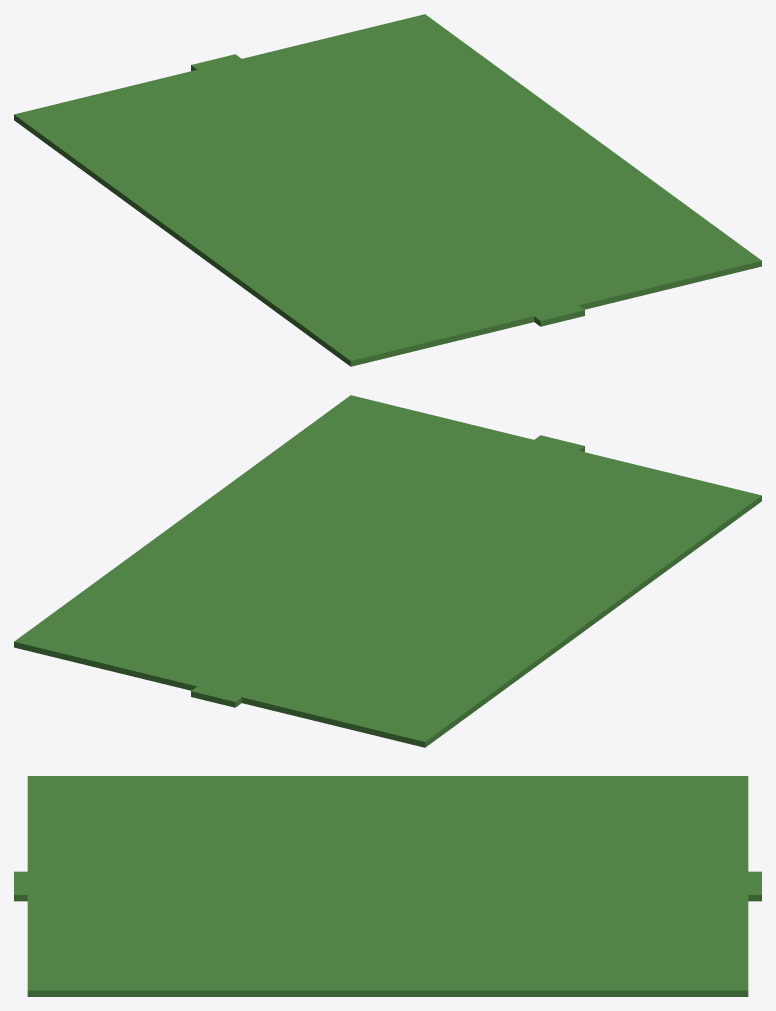
The model's file is Pitch.fbx.
3 renders of one model, top to bottom at view 1: azimuth 30°, elevation 25°; view 2: azimuth 150°, elevation 25°; view 3: azimuth 270°, elevation 25°, orthographic. The views are drawn at different scales.
Parts seen in each view (by area): view 1: Pitch; view 2: Pitch; view 3: Pitch.
Part boxes in pixels (x1,y1,x2,y2): Pitch: [14, 14, 761, 366]; Pitch: [14, 395, 761, 747]; Pitch: [14, 776, 761, 996].
Bounding box in the file's own units: 6660 × 90 × 9810.
